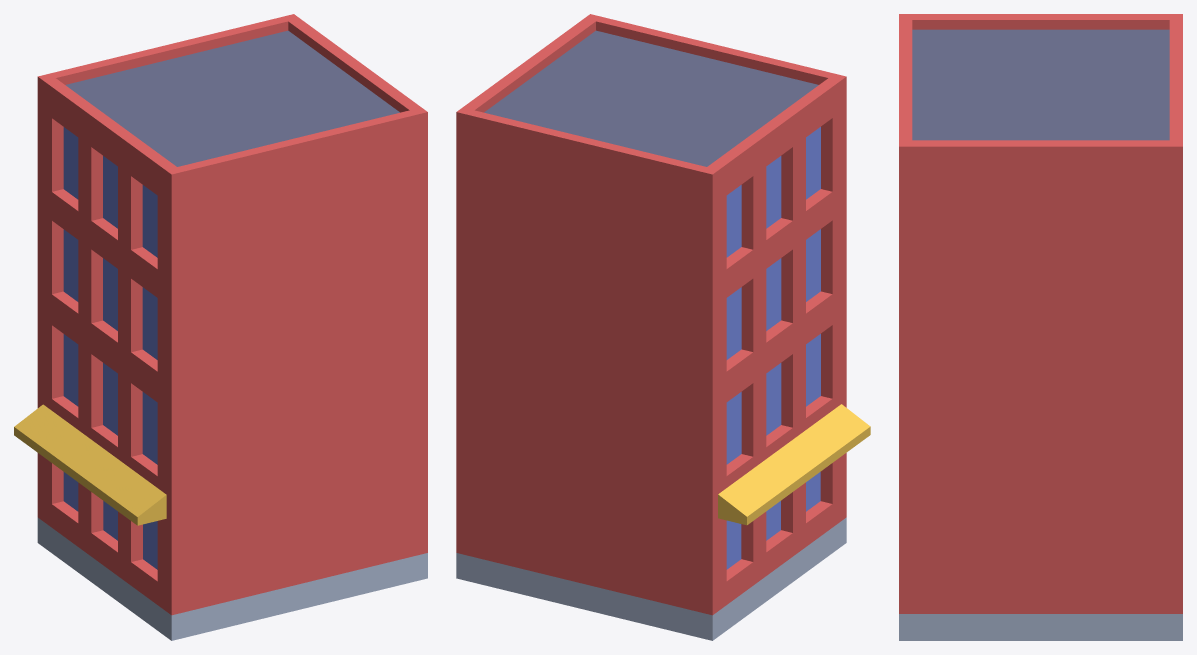
File: House 1.fbx
3 renders of one model, left to right at view 1: azimuth 30°, elevation 25°; view 2: azimuth 150°, elevation 25°; view 3: azimuth 270°, elevation 25°, orthographic. The views are drawn at different scales.
Parts seen in each view (by area): view 1: House 1; view 2: House 1; view 3: House 1.
Boxes of the visible parts, <box> form: House 1: <box>14,14,427,640</box>; House 1: <box>456,14,870,640</box>; House 1: <box>899,14,1182,640</box>.
Bounding box in the file's own units: 1247 × 1949 × 1014.
1 material, 1 textured.
